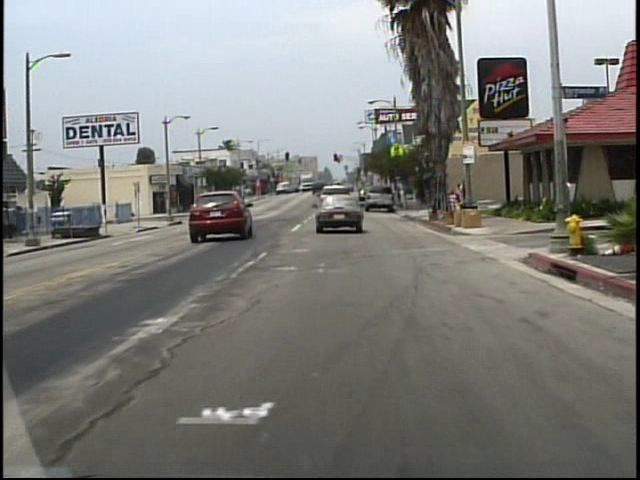person: (461, 182, 470, 210), (455, 184, 463, 208)
